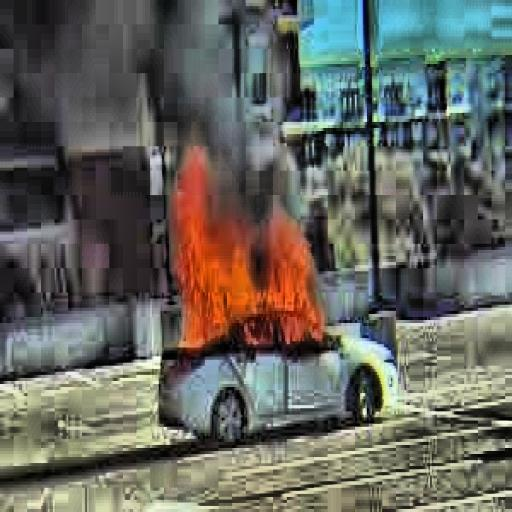fire: (169, 146, 331, 350)
